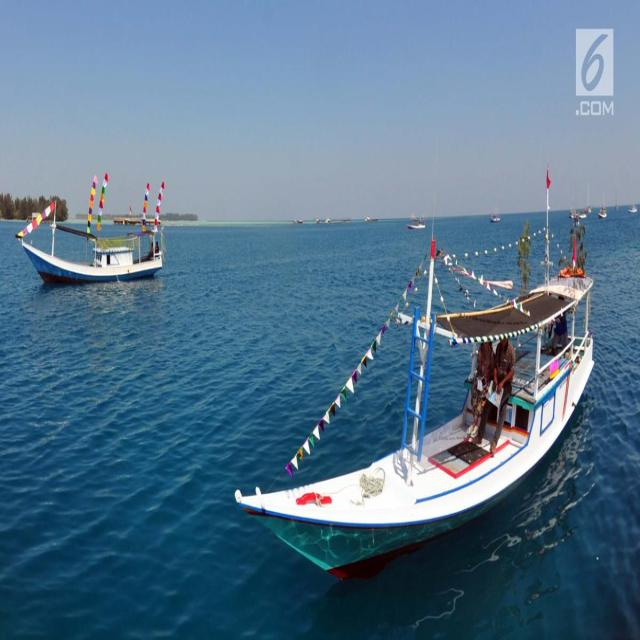Fishing Boat: (242, 226, 608, 517), (18, 124, 193, 332)
